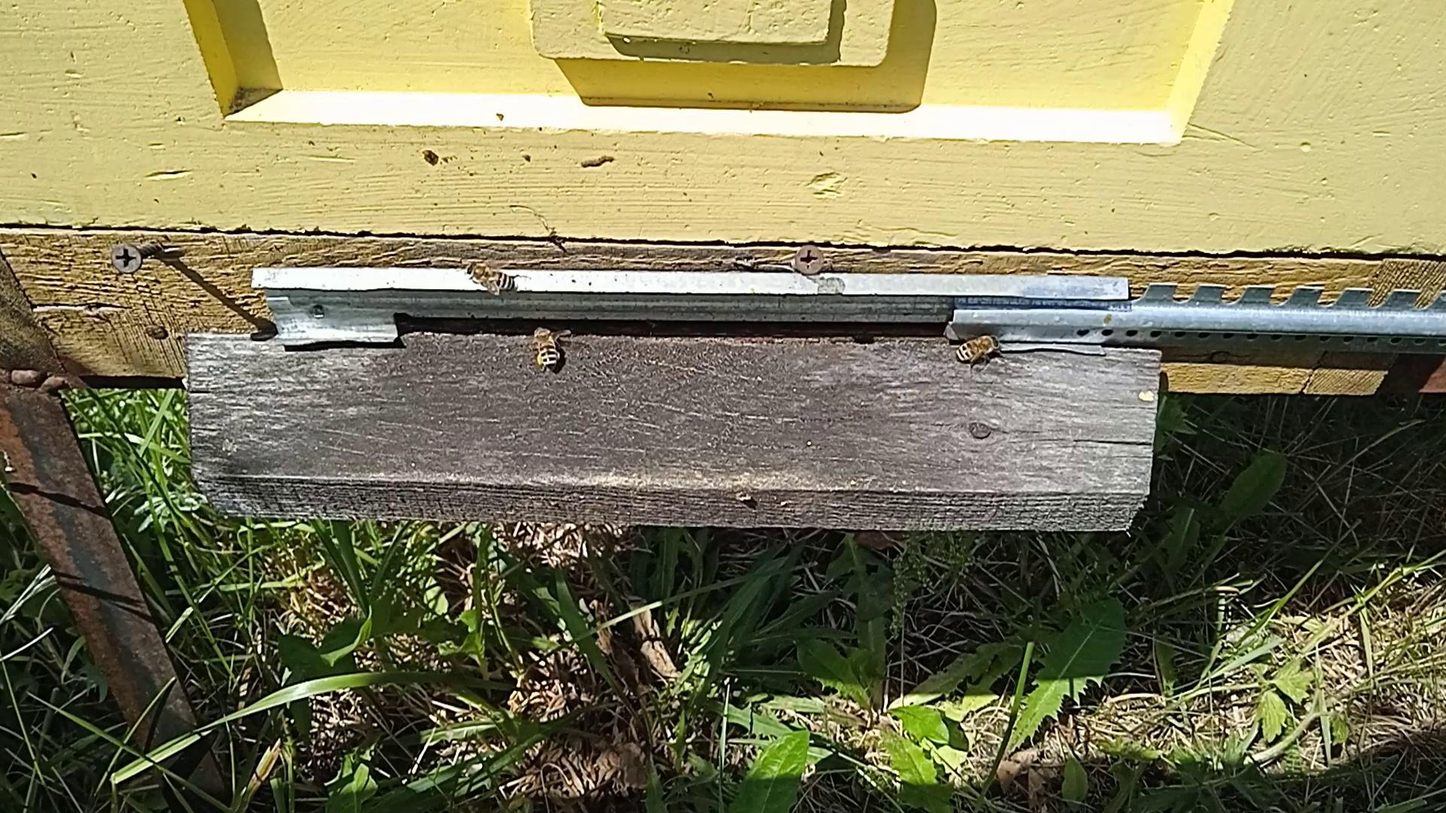worker-bee: (529, 324, 565, 373), (464, 261, 517, 293), (953, 333, 1004, 364)
